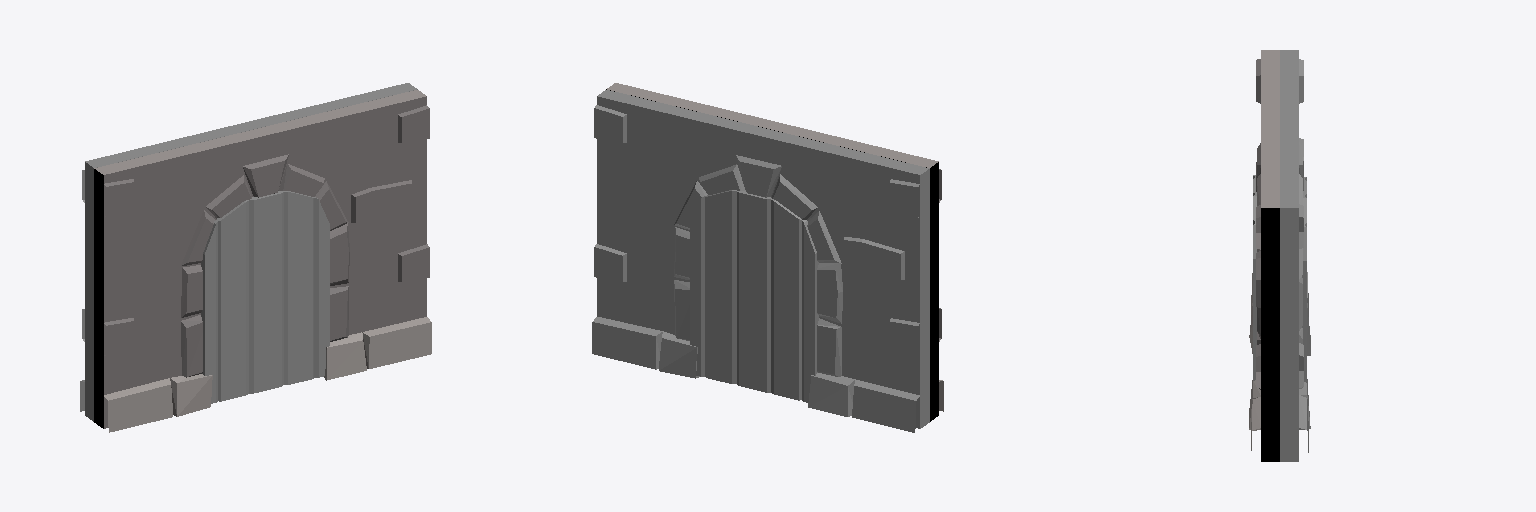
3 renders of one model, left to right at view 1: azimuth 30°, elevation 25°; view 2: azimuth 150°, elevation 25°; view 3: azimuth 270°, elevation 25°, orthographic.
Parts seen in each view (by area): view 1: dungeon-door-stone_50.001, SM_Prop_Church_Door_01_65.003, dungeon-door-stone_50.002; view 2: dungeon-door-stone_50.002, SM_Prop_Church_Door_01_65.001, dungeon-door-stone_50.001; view 3: dungeon-door-stone_50.001, dungeon-door-stone_50.002, SM_Prop_Church_Door_01_65.001, SM_Prop_Church_Door_01_65.003.
Boxes of the visible parts, x1=… form: dungeon-door-stone_50.001: x1=94, y1=90, x2=431, y2=432; SM_Prop_Church_Door_01_65.003: x1=201, y1=191, x2=329, y2=403; dungeon-door-stone_50.002: x1=80, y1=83, x2=417, y2=421; dungeon-door-stone_50.002: x1=592, y1=90, x2=929, y2=432; SM_Prop_Church_Door_01_65.001: x1=690, y1=190, x2=818, y2=402; dungeon-door-stone_50.001: x1=606, y1=83, x2=943, y2=421; dungeon-door-stone_50.001: x1=1249, y1=50, x2=1279, y2=461; dungeon-door-stone_50.002: x1=1280, y1=50, x2=1310, y2=461; SM_Prop_Church_Door_01_65.001: x1=1302, y1=177, x2=1306, y2=382; SM_Prop_Church_Door_01_65.003: x1=1253, y1=175, x2=1256, y2=380.
Bounding box in the file's own units: 4 × 3 × 0.6566.
Materials: 4 (1 with a texture image).